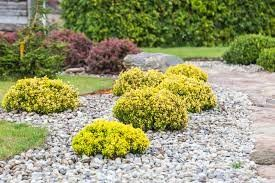grass: (0, 122, 45, 162)
rock: (185, 94, 254, 179), (0, 152, 141, 180), (143, 131, 182, 180), (125, 51, 184, 72), (49, 113, 79, 151), (81, 92, 118, 121)
